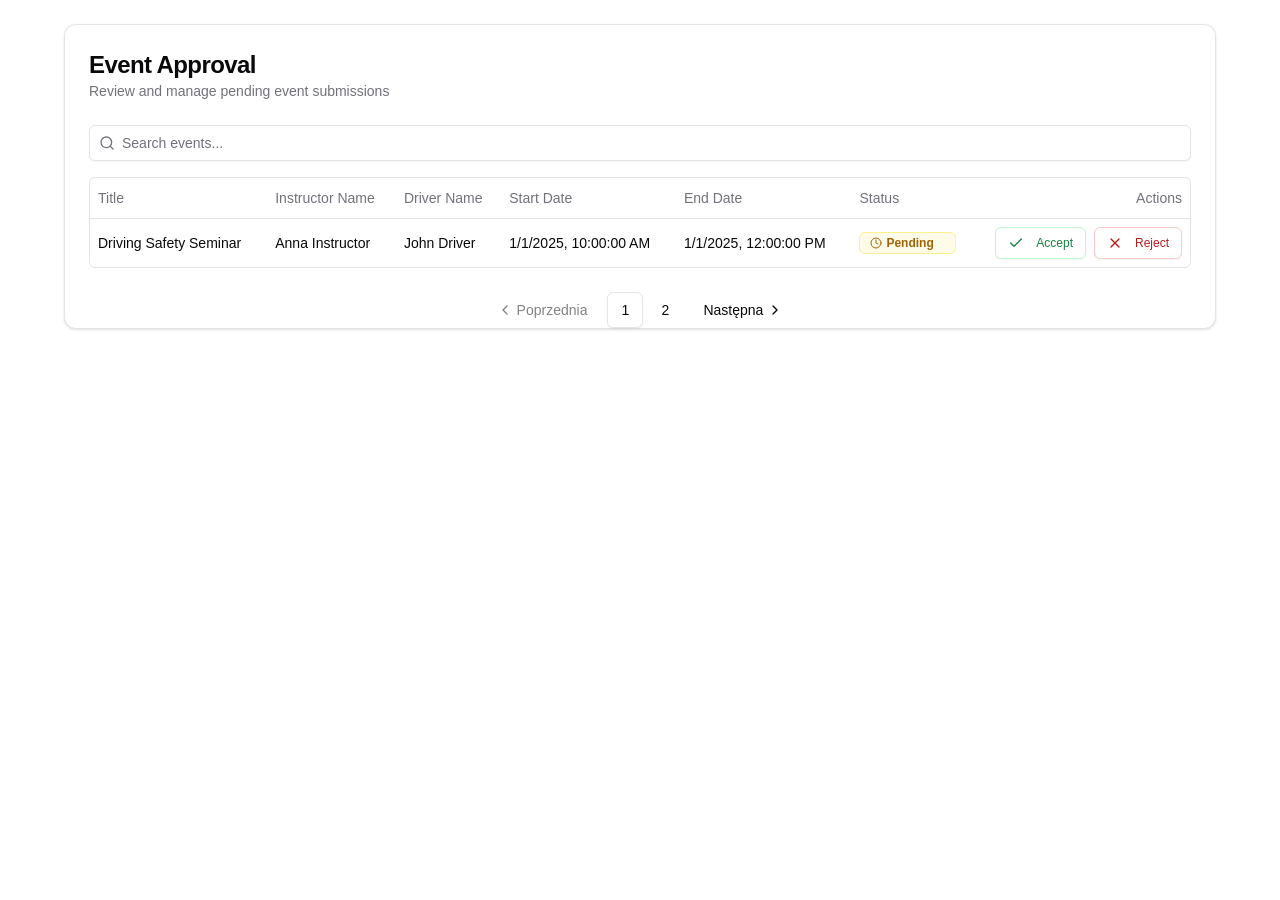
Test: PendingEventsCard › opens confirmation dialog on action click
The width and height of the screenshot is (1280, 900).
// click the Accept button to trigger dialog
Click the button "Accept" at (1041, 242), box [995,226,1086,258]
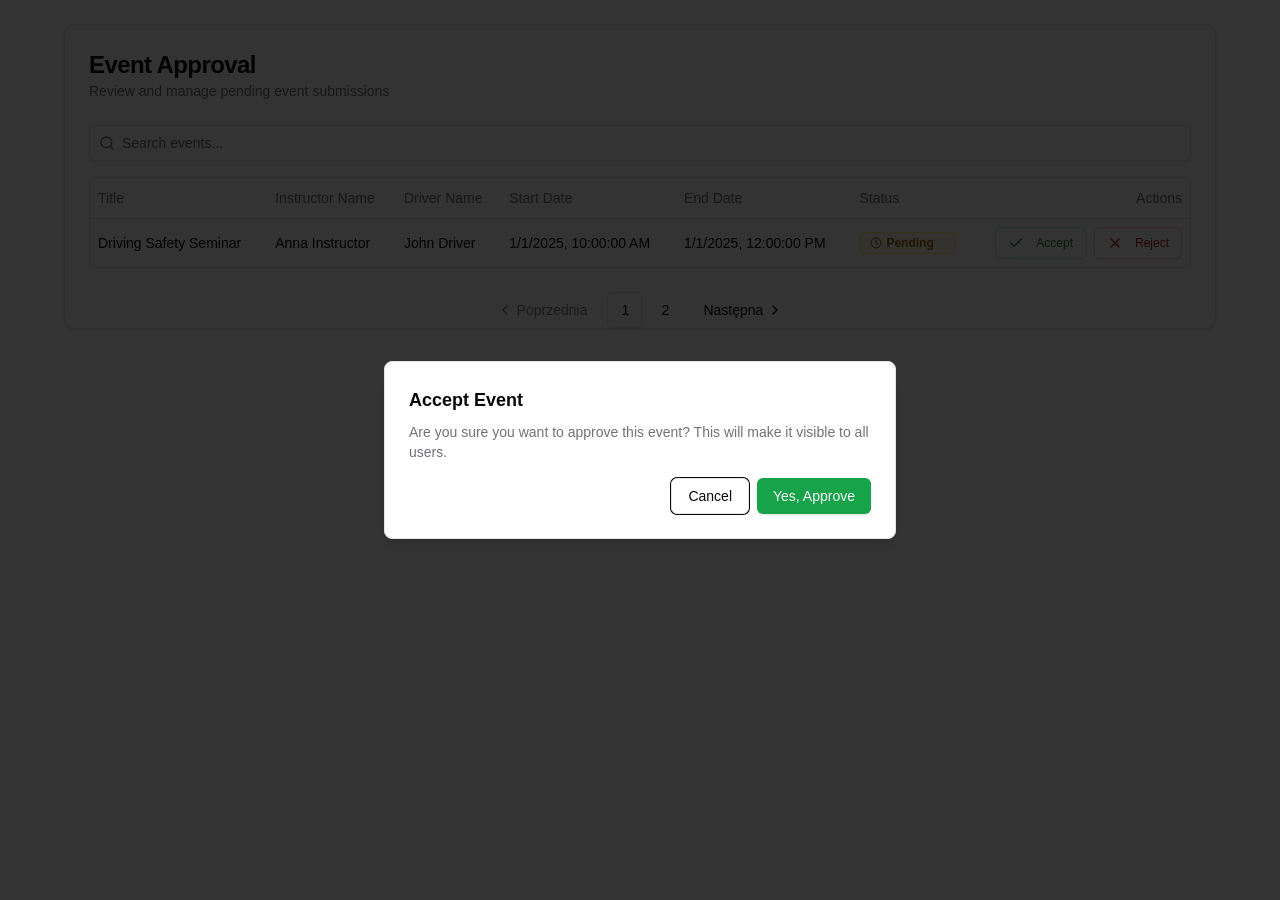
Now the text "Are you sure" is shown, box [409,424,869,460]
Now the button "Yes, Approve" is shown, box [757,478,871,514]
Now the button "Cancel" is shown, box [671,478,749,514]
